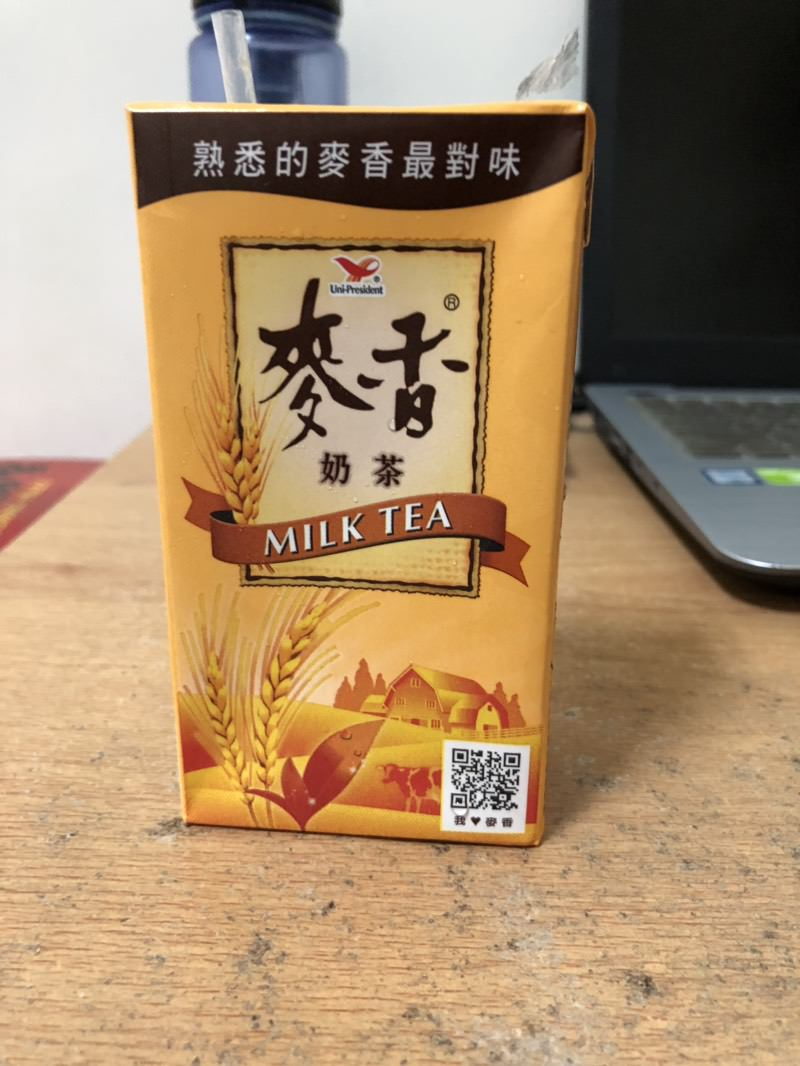milk tea: (129, 106, 568, 855)
